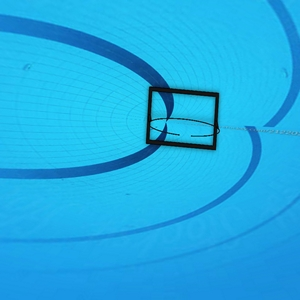circle: (142, 83, 223, 158)
